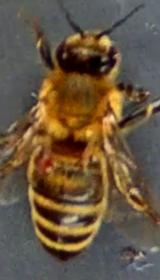varroa_mite: (27, 143, 63, 184)
